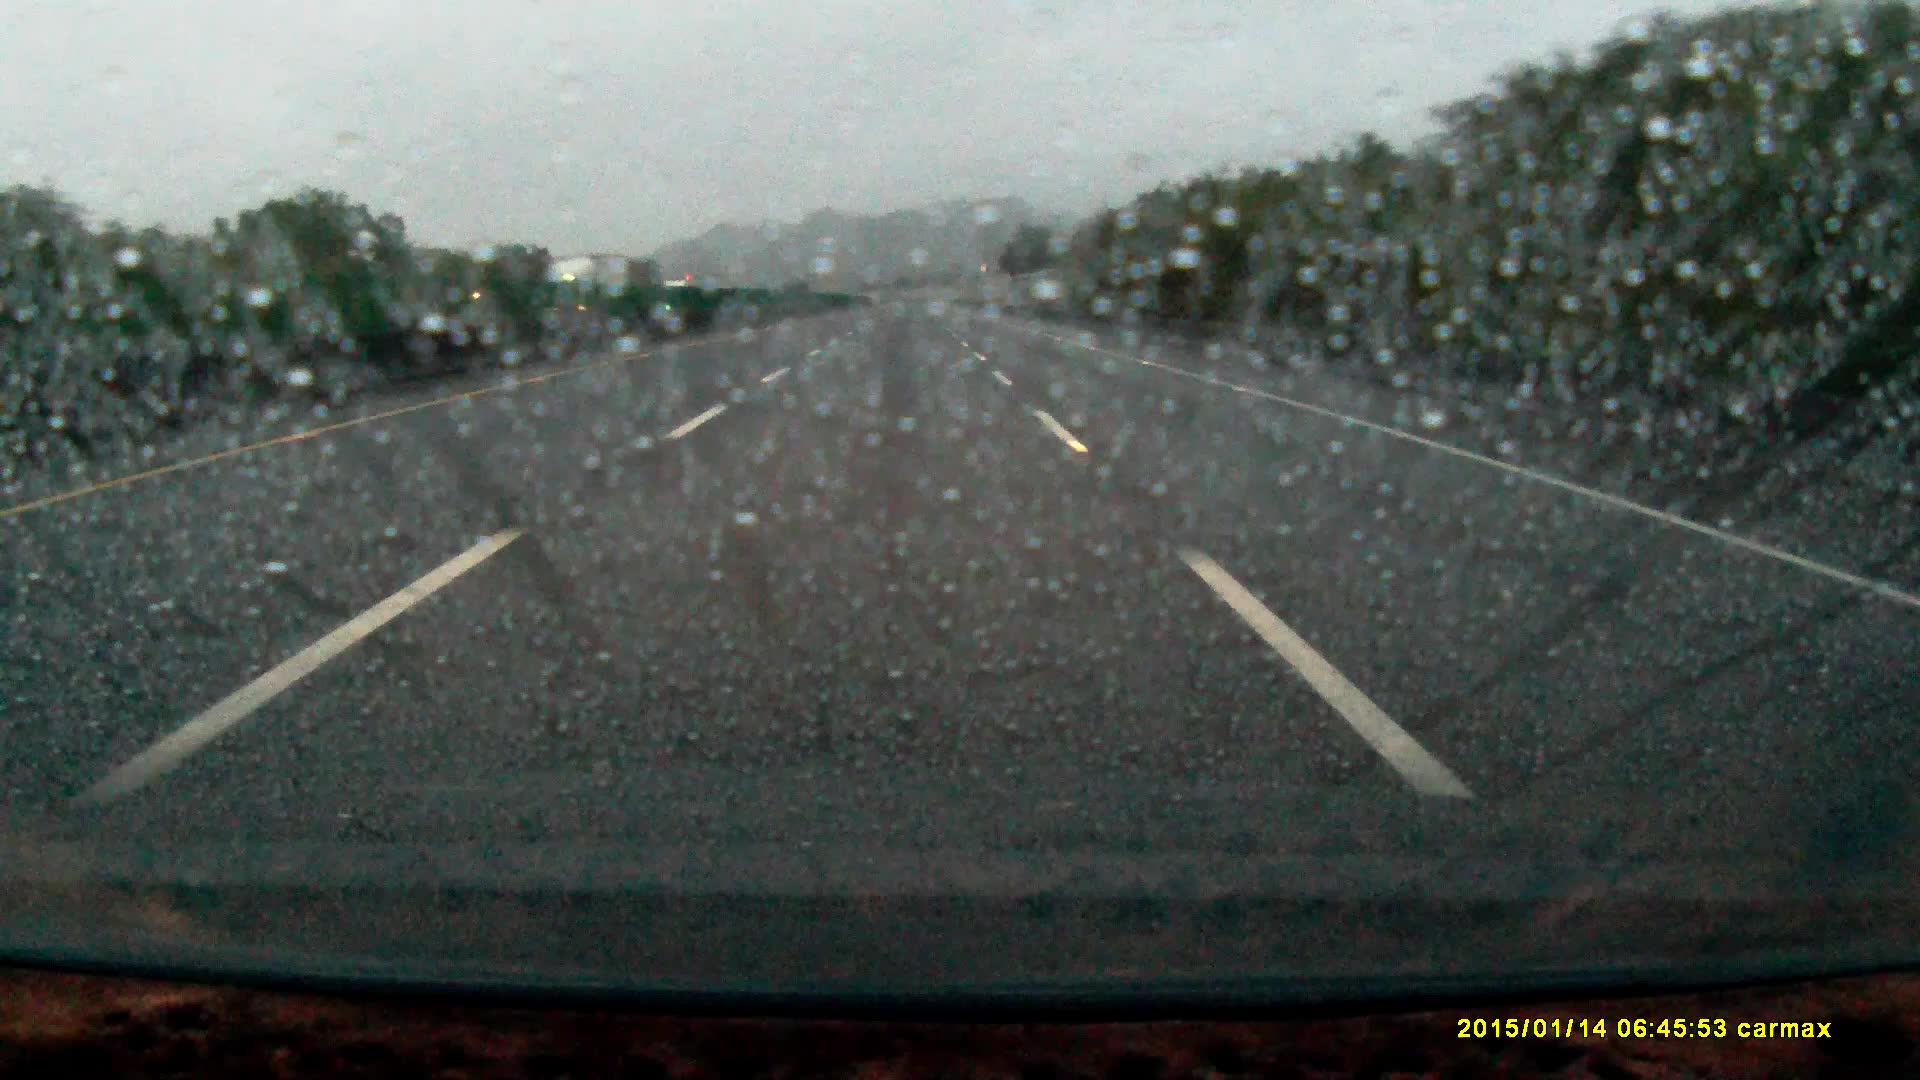vehicle: (663, 278, 705, 311)
